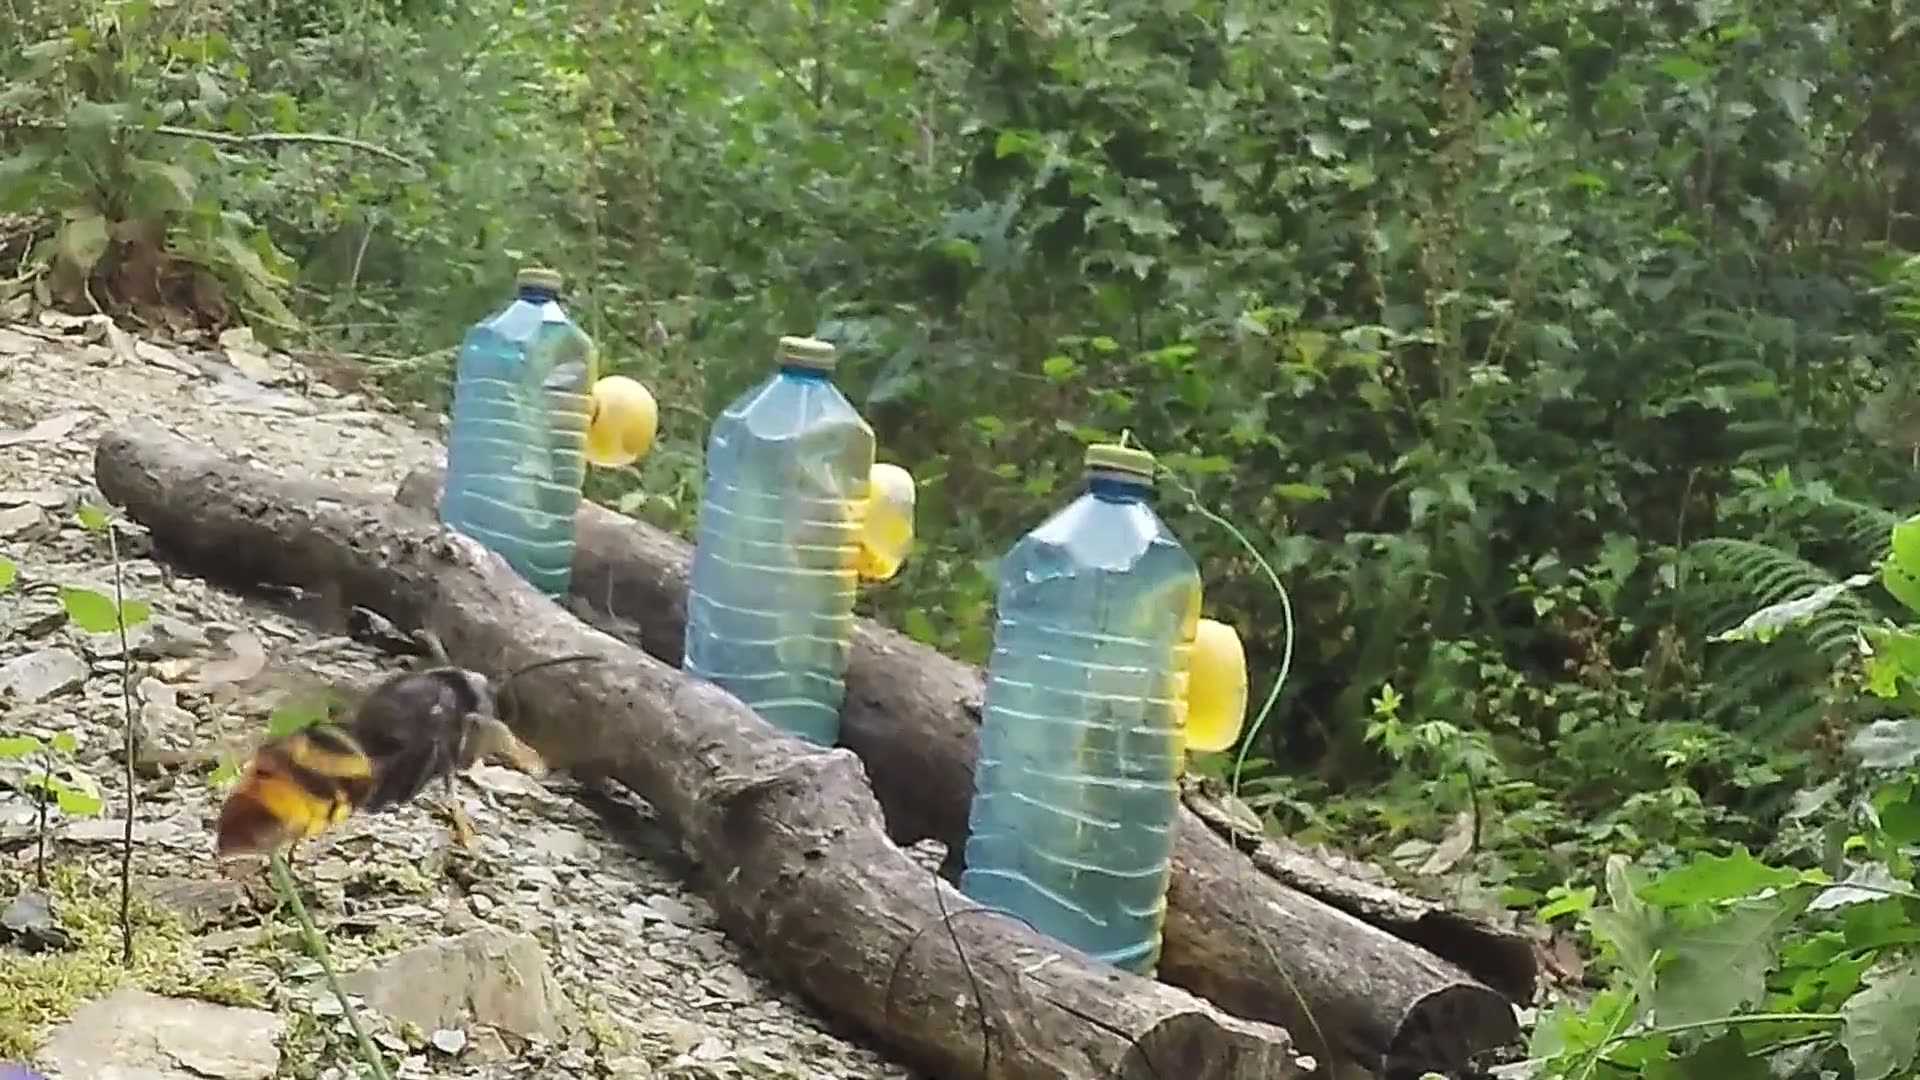hornet: (200, 655, 512, 869)
